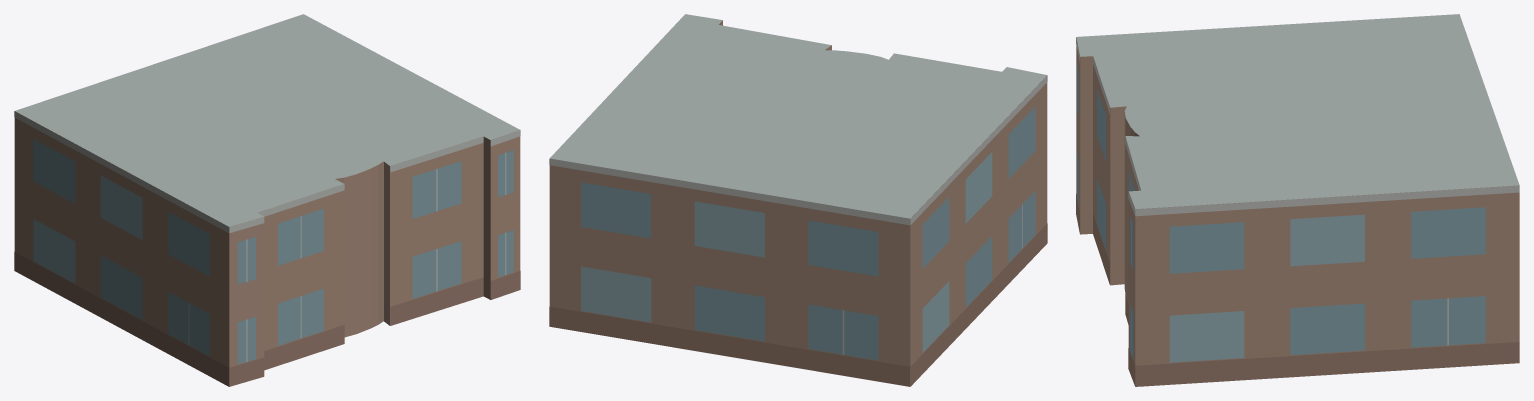
File: survey-upis-32957178.glb
The picture shows the model from 3 angles, left to right: view 1: azimuth 30°, elevation 25°; view 2: azimuth 150°, elevation 25°; view 3: azimuth 270°, elevation 25°; orthographic projection. The views are drawn at different scales.
Visible parts, largest first — view 1: survey-upis-32957178.tmp; view 2: survey-upis-32957178.tmp; view 3: survey-upis-32957178.tmp.
Boxes of the visible parts, x1=… form: survey-upis-32957178.tmp: x1=14, y1=14, x2=520, y2=386; survey-upis-32957178.tmp: x1=549, y1=14, x2=1047, y2=386; survey-upis-32957178.tmp: x1=1076, y1=14, x2=1519, y2=386.
Size of the model in its own units: 14.38 by 6.1 by 13.81.
